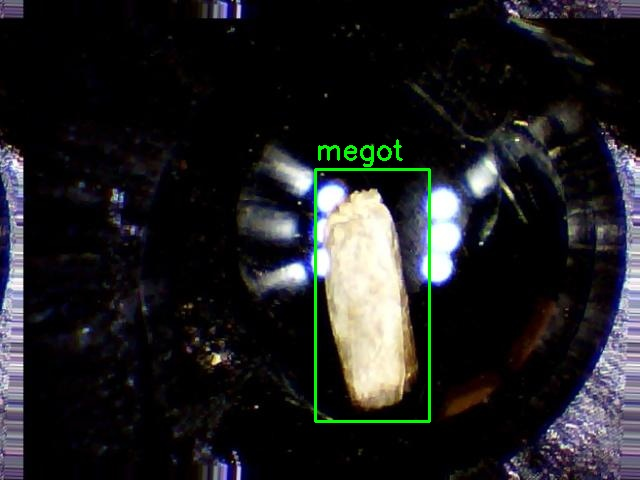megot: (315, 169, 429, 421)
